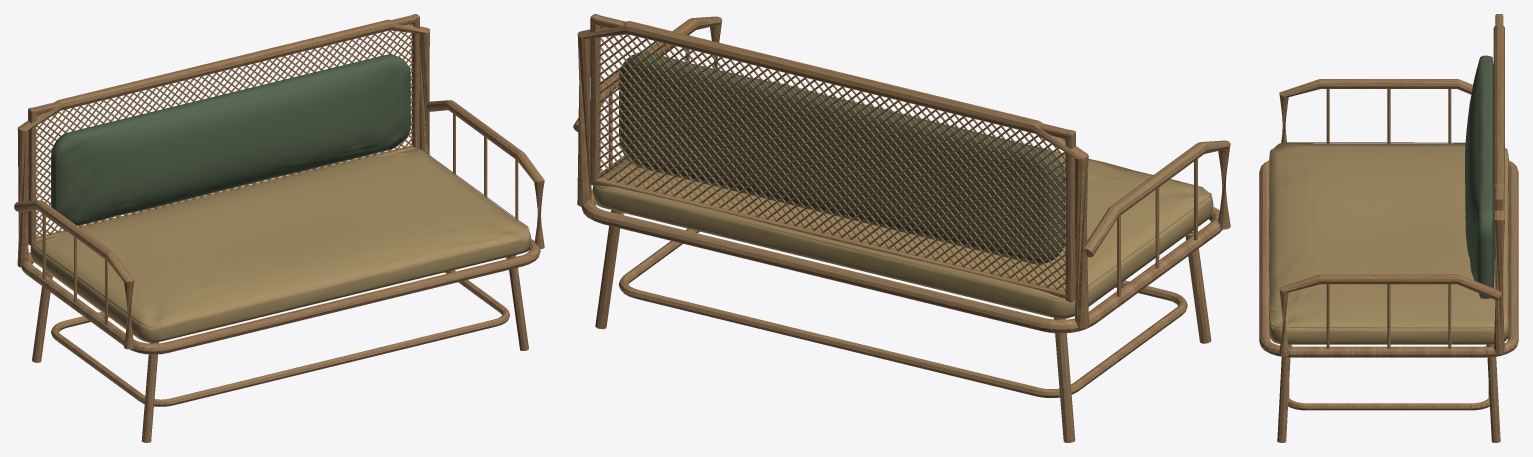
Rendered from designed-sunroom-loveseat.glb.
The picture shows the model from 3 angles, left to right: view 1: azimuth 30°, elevation 25°; view 2: azimuth 150°, elevation 25°; view 3: azimuth 270°, elevation 25°; orthographic projection. The views are drawn at different scales.
Parts seen in each view (by area): view 1: catalog_surface_UVMap, catalog_surface_RealismUV; view 2: catalog_surface_UVMap, catalog_surface_RealismUV; view 3: catalog_surface_UVMap, catalog_surface_RealismUV.
Boxes of the visible parts, x1,y1,x2,y2 form: catalog_surface_UVMap: (14, 14, 544, 442); catalog_surface_RealismUV: (32, 70, 529, 327); catalog_surface_UVMap: (573, 14, 1230, 442); catalog_surface_RealismUV: (596, 155, 1211, 299); catalog_surface_UVMap: (1259, 14, 1518, 442); catalog_surface_RealismUV: (1270, 142, 1507, 328).
Bounding box in the file's own units: 1.42 × 0.82 × 0.78.
Materials: 5 (4 with a texture image).
